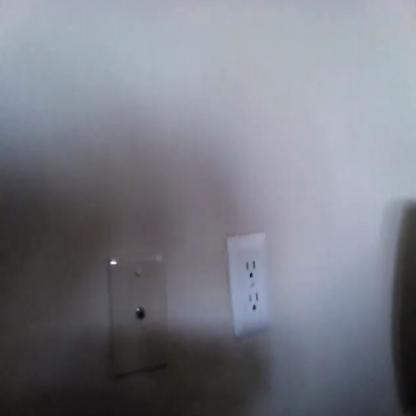OUTLET: (230, 235, 272, 335)
